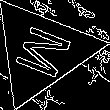M_SE: (7, 20, 76, 82)
